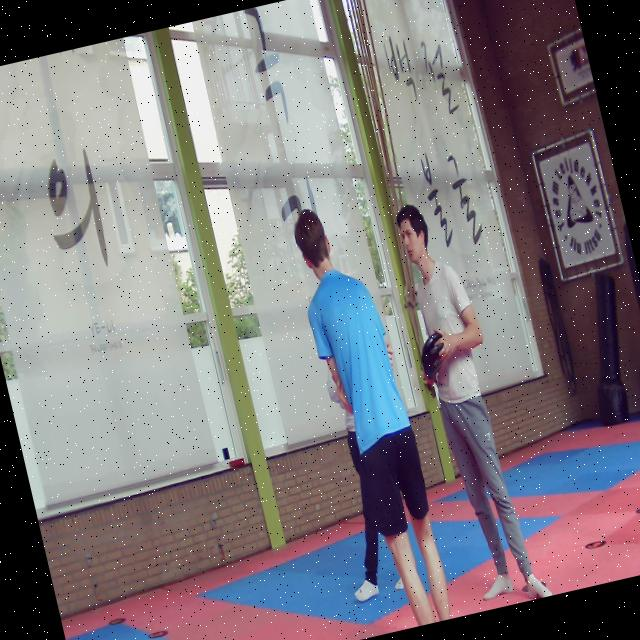paddle: (421, 332, 446, 385)
